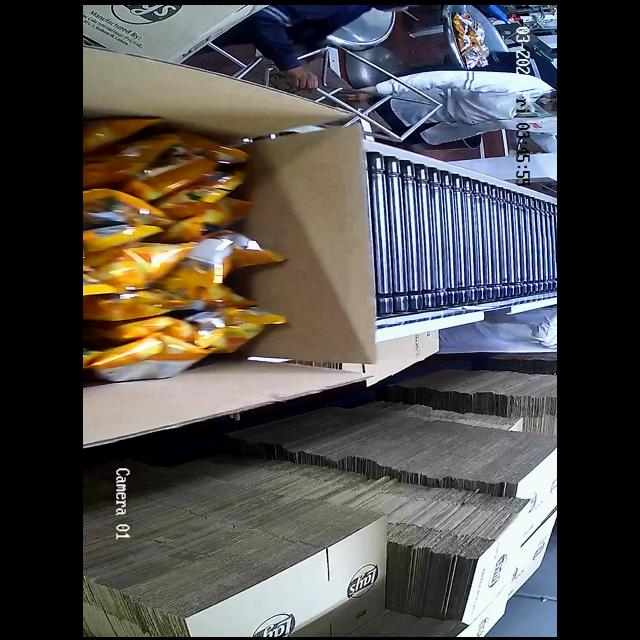cheese: (83, 144, 254, 369)
